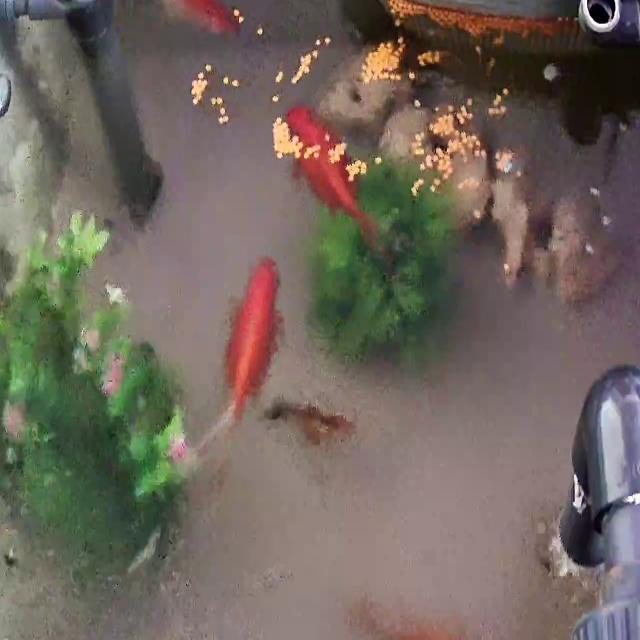fish: (175, 257, 278, 481), (290, 102, 374, 243), (349, 598, 461, 640), (116, 0, 239, 37), (262, 397, 348, 448)
